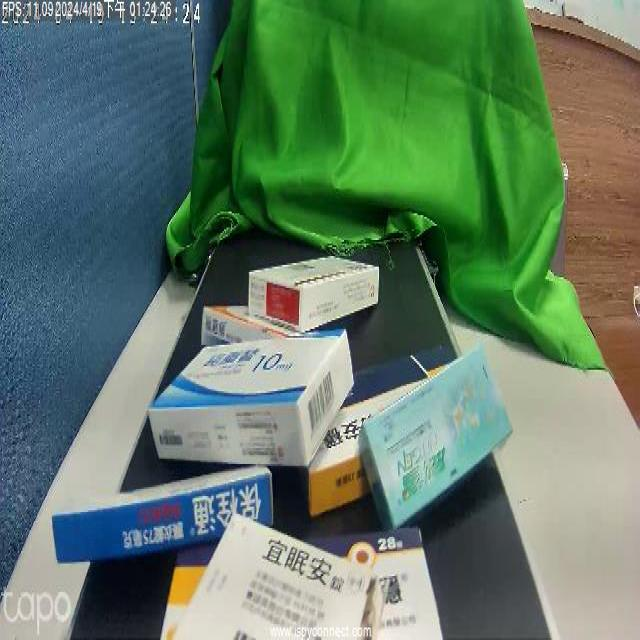box: (36, 473, 263, 583), (186, 524, 380, 640), (151, 327, 336, 448), (359, 378, 496, 535), (263, 246, 374, 330)
